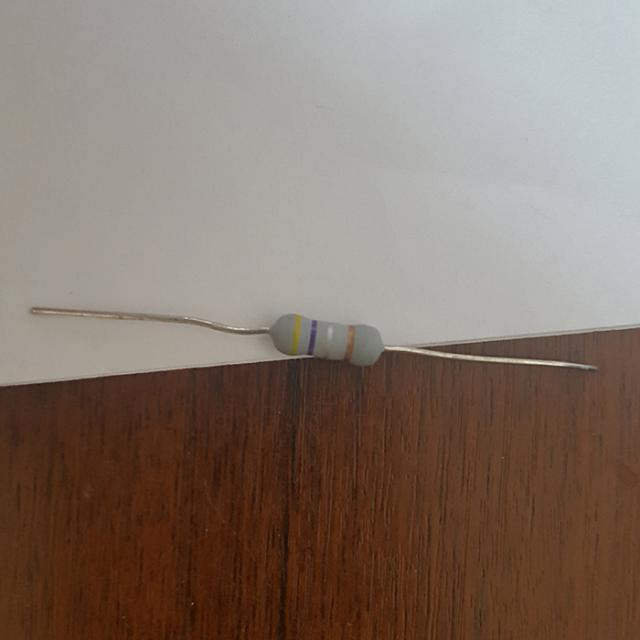Resistor Carbon-Film: (270, 312, 391, 372)
